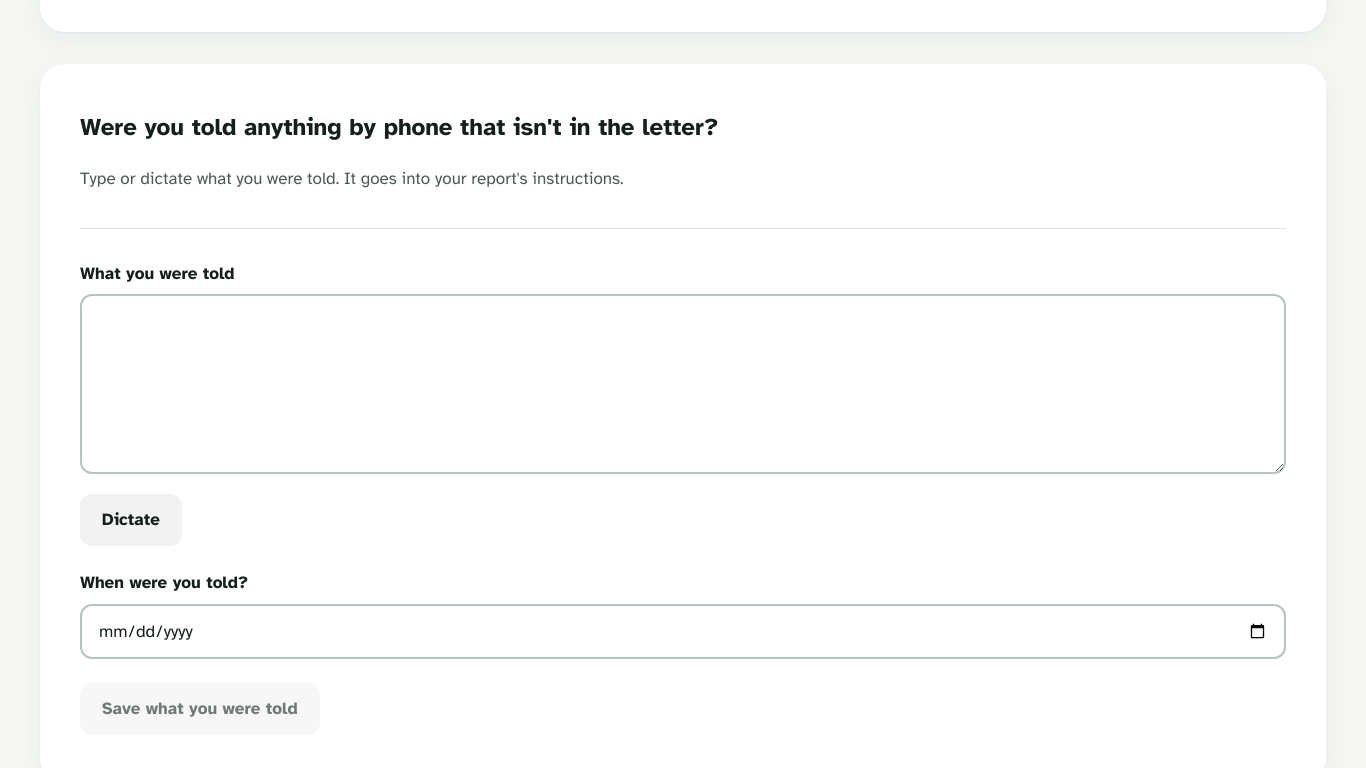
Test: dictated words land in the oral instructions box and the socket closes when dictation ends
(page scrolled)
Type "Start." into the text box labelled "What you were told". click: coordinates (683, 384)
box: x1=80 y1=294 x2=1286 y2=474
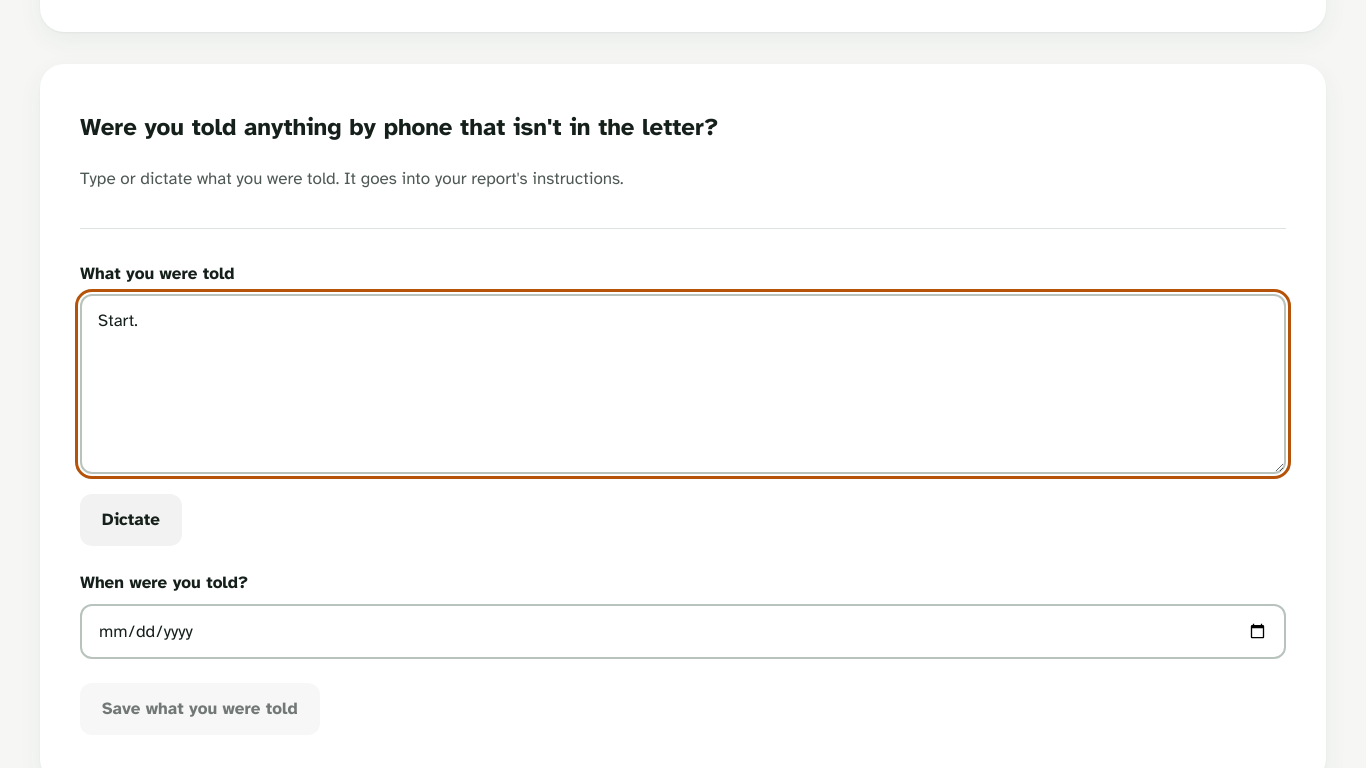
Click the button "Dictate". click: coordinates (131, 520)
box: x1=80 y1=494 x2=182 y2=546
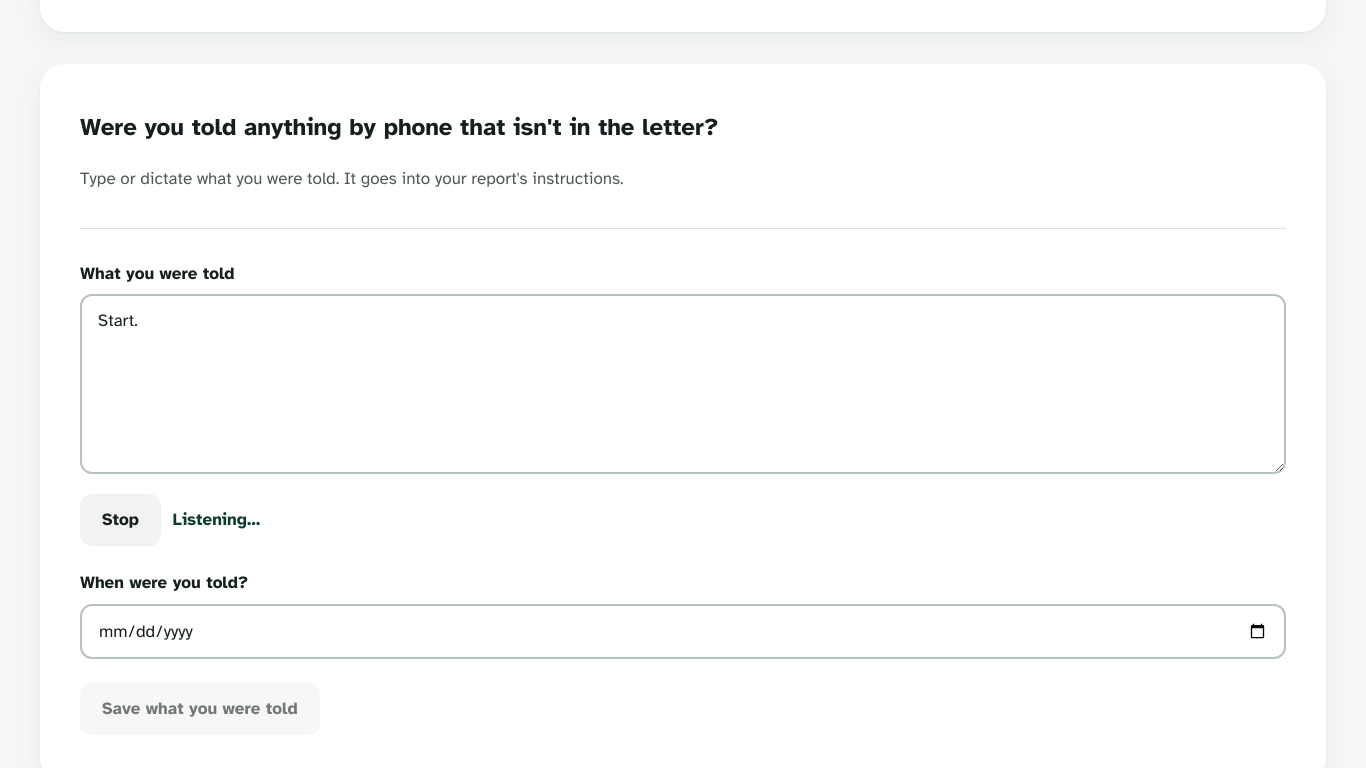
Click the button "Stop". click: coordinates (120, 520)
box: x1=80 y1=494 x2=161 y2=546
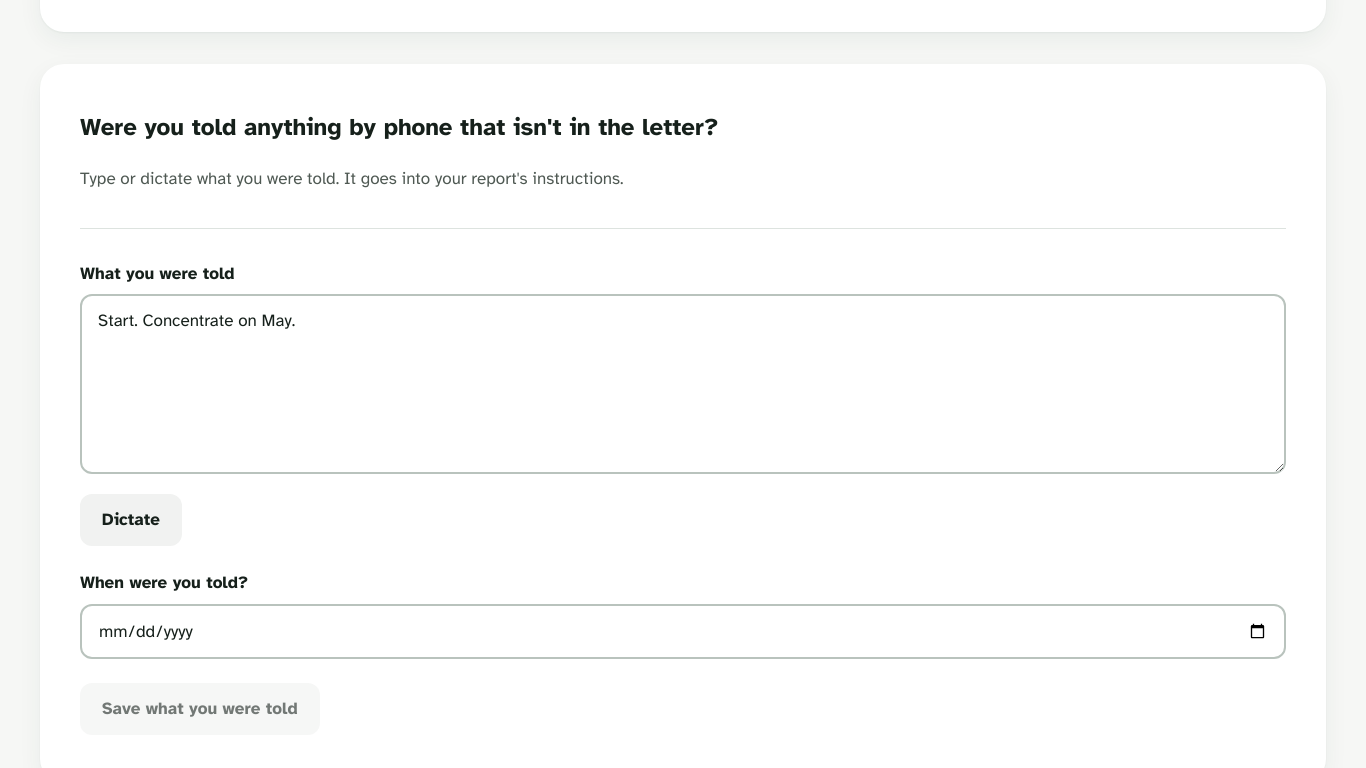
Expected: the button "Dictate" is enabled, x1=80 y1=494 x2=182 y2=546
Result: the text box labelled "What you were told" holds "Start. Concentrate on May." at x1=80 y1=294 x2=1286 y2=474
